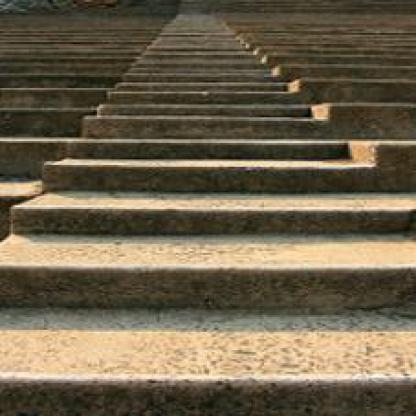stair_up: (16, 152, 407, 326)
